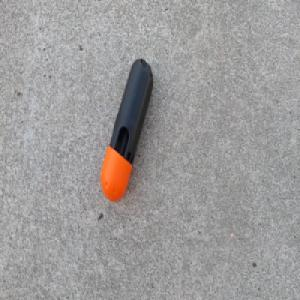PlasticPart: (100, 57, 154, 202)
